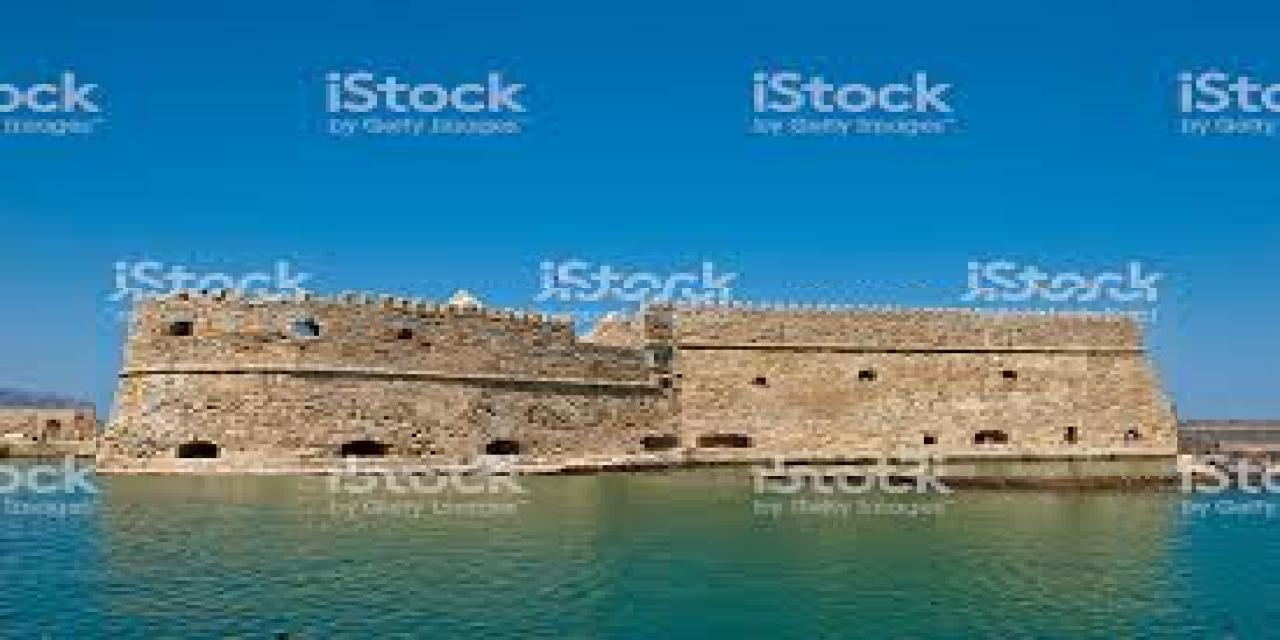Kules: (97, 289, 1178, 477)
